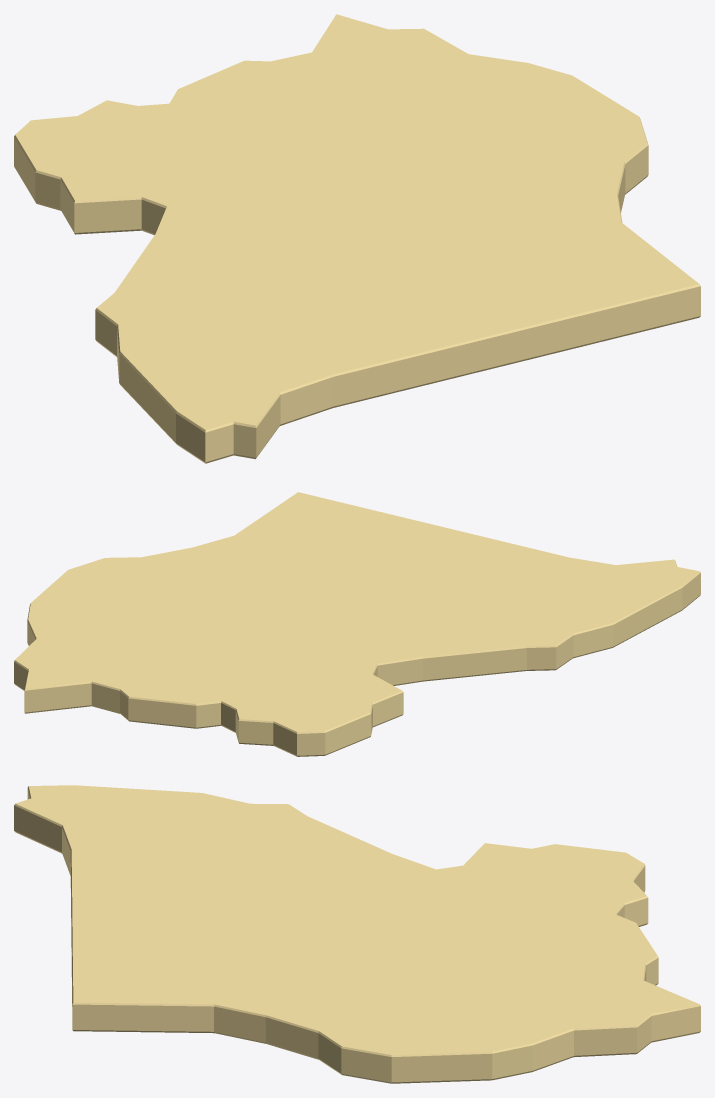
File: UGA.glb
The picture shows the model from 3 angles, top to bottom: view 1: azimuth 30°, elevation 25°; view 2: azimuth 150°, elevation 25°; view 3: azimuth 270°, elevation 25°; orthographic projection. The views are drawn at different scales.
Size of the model in its own units: 1.37 by 0.068 by 1.47.
